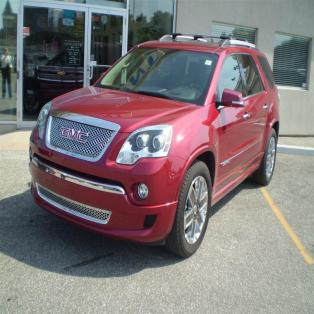Auto: (20, 35, 278, 258)
